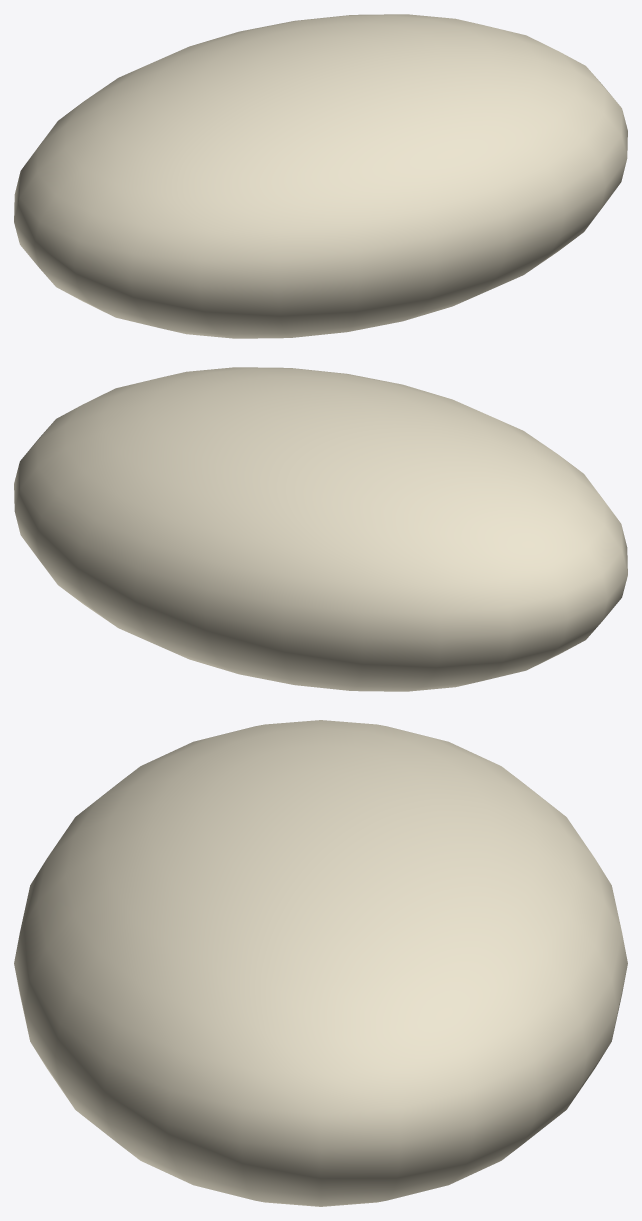
The model's file is pebble.glb.
3 views of the same model, one above another, from view 1: azimuth 30°, elevation 25°; view 2: azimuth 150°, elevation 25°; view 3: azimuth 270°, elevation 25° (orthographic). The views are drawn at different scales.
Parts seen in each view (by area): view 1: pebble; view 2: pebble; view 3: pebble.
Boxes of the visible parts, left/top/right/bottom form: pebble: left=14, top=14, right=627, bottom=338; pebble: left=14, top=367, right=627, bottom=691; pebble: left=14, top=720, right=627, bottom=1206.
Bounding box in the file's own units: 0.5 × 0.2 × 0.35.
